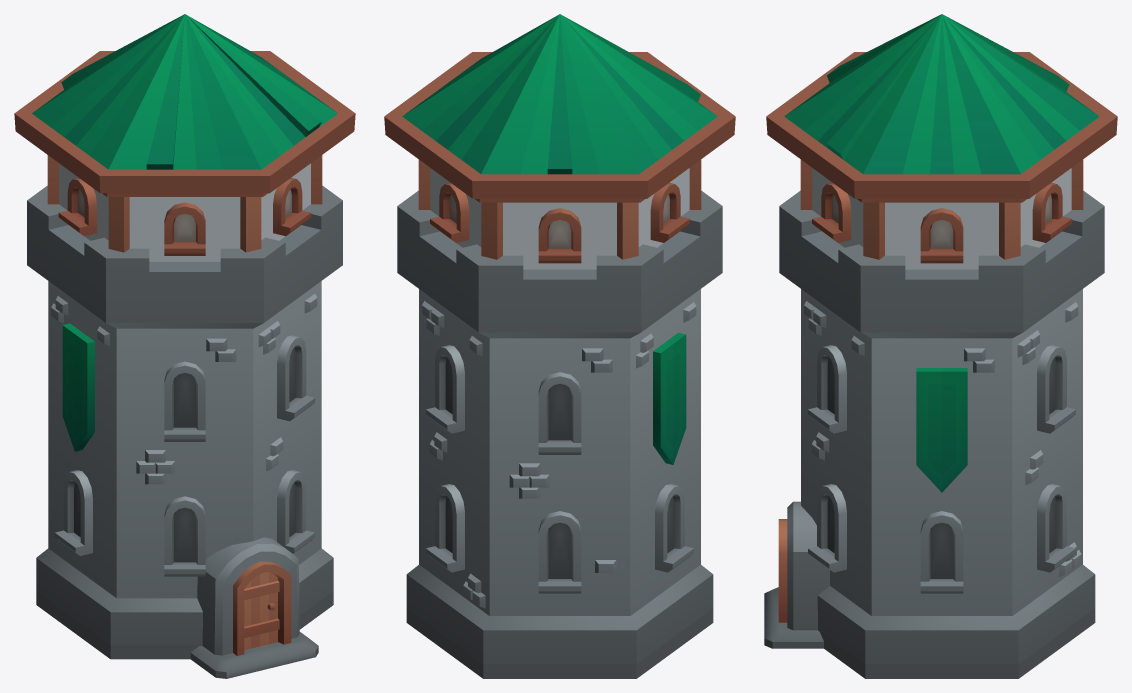
Rendered from building_tower_A_green.gltf.
The picture shows the model from 3 angles, left to right: view 1: azimuth 30°, elevation 25°; view 2: azimuth 150°, elevation 25°; view 3: azimuth 270°, elevation 25°; orthographic projection. The views are drawn at different scales.
Visible parts, largest first — view 1: building_tower_A_green, building_tower_A_top_green; view 2: building_tower_A_green, building_tower_A_top_green; view 3: building_tower_A_green, building_tower_A_top_green.
Boxes of the visible parts, <box> form: building_tower_A_green: <box>27,185,342,678</box>; building_tower_A_top_green: <box>14,14,355,261</box>; building_tower_A_green: <box>397,190,722,678</box>; building_tower_A_top_green: <box>384,14,735,269</box>; building_tower_A_green: <box>764,190,1104,678</box>; building_tower_A_top_green: <box>766,14,1117,269</box>.
Size of the model in its own units: 0.9933 by 2.19 by 1.15.
Materials: 1 (1 with a texture image).
